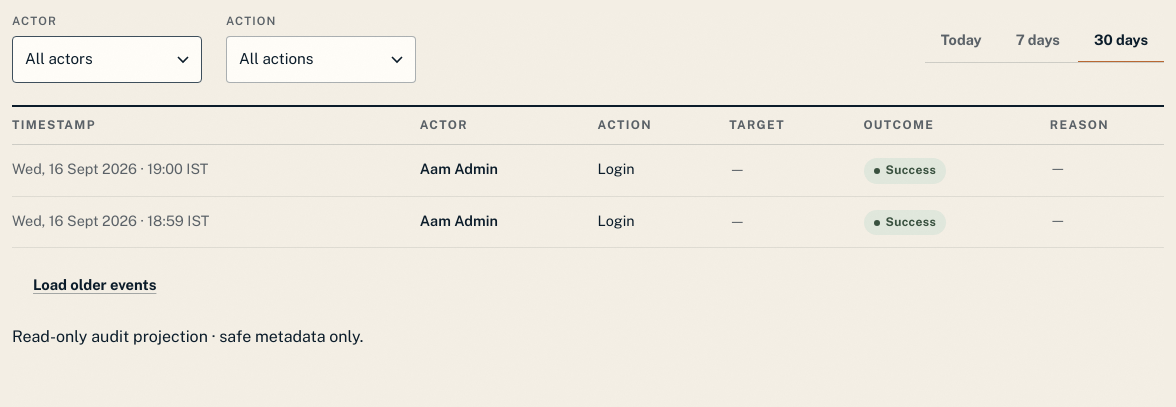
AuditExplorer pagination › loads older events with the cursor and merges them exactly once
Click the button "Load older events": coordinates (95, 285) [12,264,177,306]
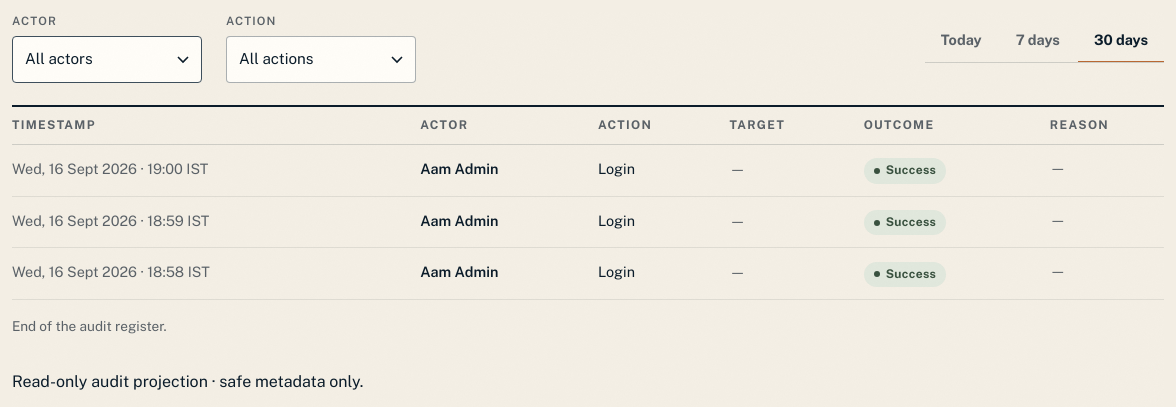
Now the text "End of the audit register." is shown, box [12,316,167,338]
